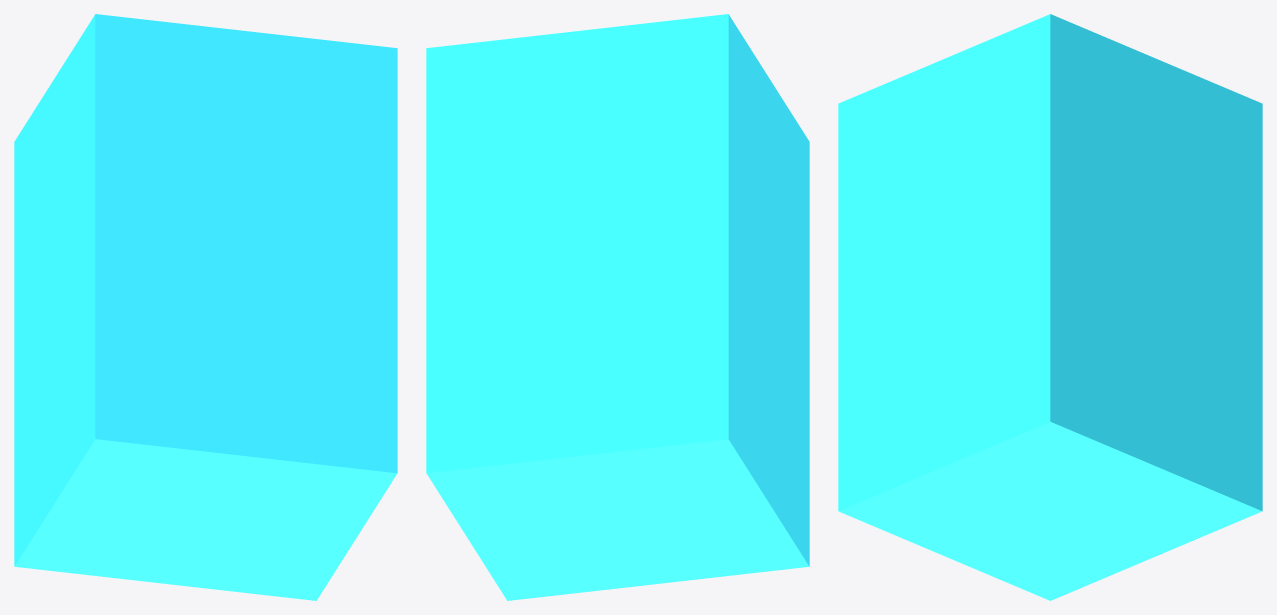
The model's file is chaines-crystal.gltf.
3 views of the same model, side by side, from view 1: azimuth 30°, elevation 25°; view 2: azimuth 150°, elevation 25°; view 3: azimuth 270°, elevation 25° (orthographic). The views are drawn at different scales.
Bounding box in the file's own units: 2.26 × 2.4 × 2.26.
